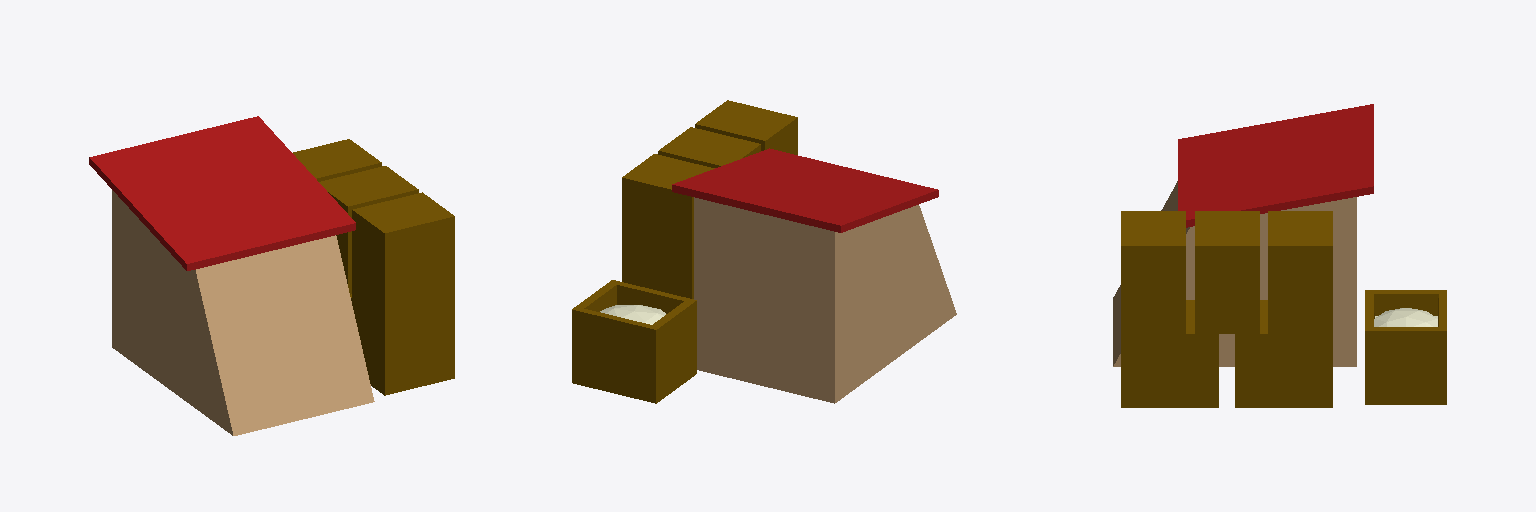
Rendered from BMineIron.obj.
3 renders of one model, left to right at view 1: azimuth 30°, elevation 25°; view 2: azimuth 150°, elevation 25°; view 3: azimuth 270°, elevation 25°, orthographic.
Parts seen in each view (by area): view 1: BMineIron; view 2: BMineIron; view 3: BMineIron.
Part boxes in pixels (left/top/right/bottom): BMineIron: left=89, top=116, right=454, bottom=435; BMineIron: left=572, top=100, right=956, bottom=403; BMineIron: left=1113, top=104, right=1446, bottom=407.
Bounding box in the file's own units: 3.4 × 2.54 × 4.1.